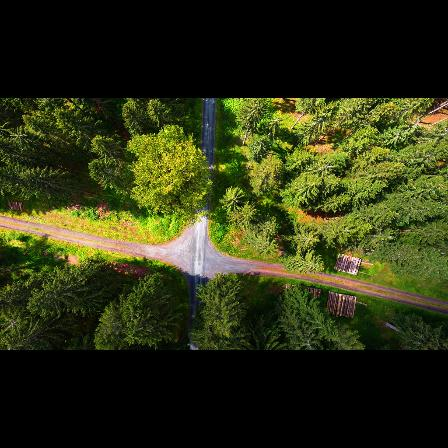Sick: (0, 312, 24, 335), (264, 112, 288, 133)
